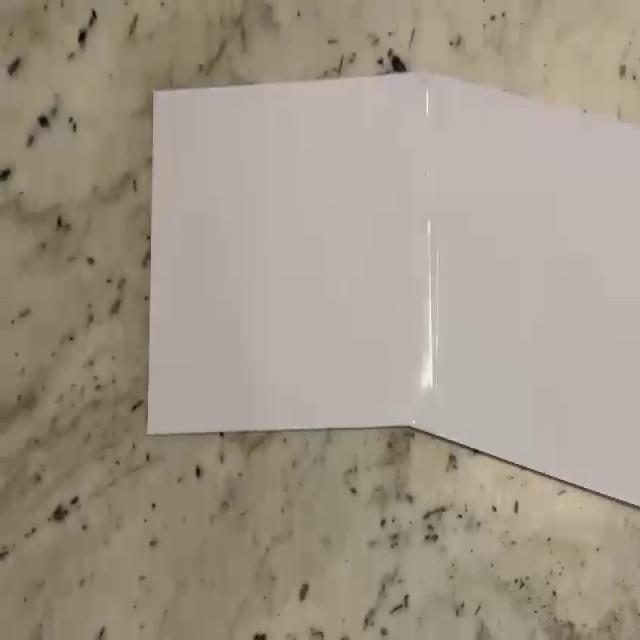road: (146, 72, 640, 508)
